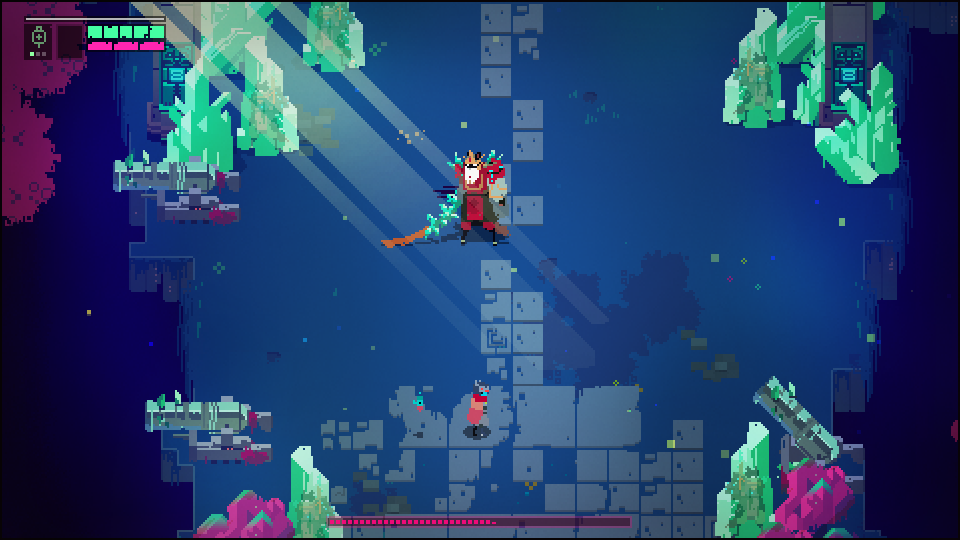hanged_man: (409, 151, 517, 256)
player: (463, 372, 492, 441)
